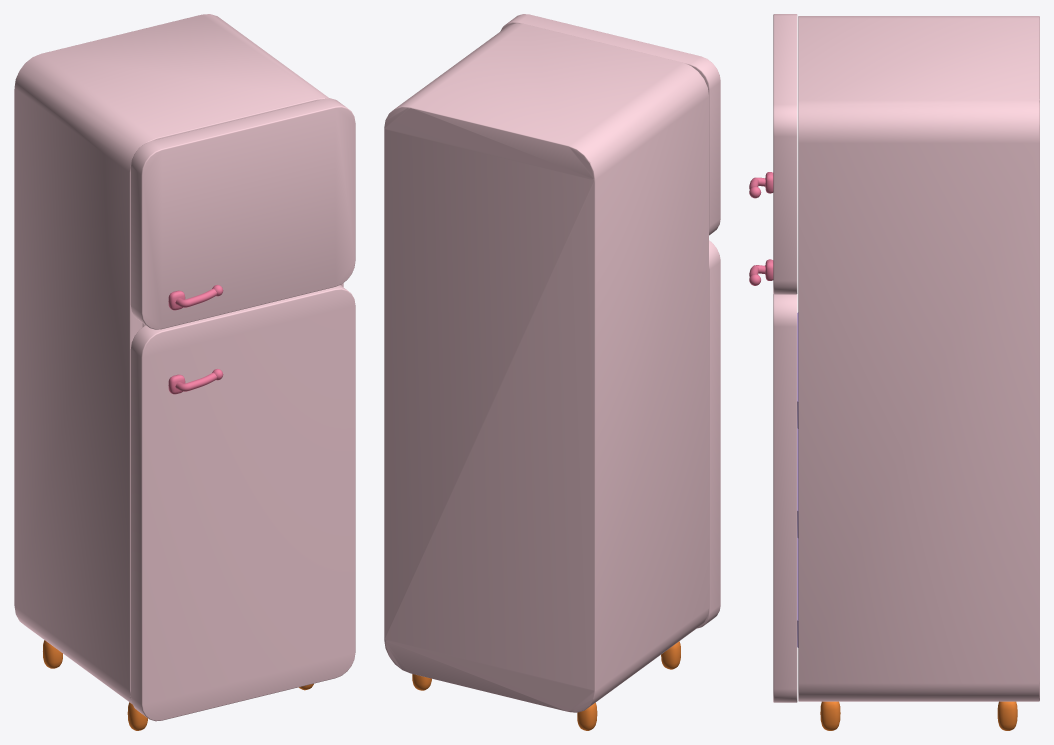
Rendered from geladeira_retro_pes_rosa.glb.
The picture shows the model from 3 angles, left to right: view 1: azimuth 30°, elevation 25°; view 2: azimuth 150°, elevation 25°; view 3: azimuth 270°, elevation 25°; orthographic projection. The views are drawn at different scales.
Parts seen in each view (by area): view 1: geladeira_retro_pes_rosa, porta_geladeira, porta_congelador; view 2: geladeira_retro_pes_rosa, porta_geladeira, porta_congelador; view 3: geladeira_retro_pes_rosa, porta_geladeira, porta_congelador.
Boxes of the visible parts, left/top/right/bottom form: geladeira_retro_pes_rosa: left=14, top=14, right=343, bottom=730; porta_geladeira: left=130, top=285, right=355, bottom=721; porta_congelador: left=130, top=98, right=355, bottom=329; geladeira_retro_pes_rosa: left=384, top=23, right=708, bottom=730; porta_geladeira: left=697, top=240, right=720, bottom=628; porta_congelador: left=500, top=14, right=720, bottom=235; geladeira_retro_pes_rosa: left=798, top=16, right=1039, bottom=730; porta_geladeira: left=749, top=259, right=798, bottom=702; porta_congelador: left=749, top=14, right=797, bottom=294.
Size of the model in its own units: 0.64 by 1.72 by 0.722.
Materials: 2 (1 with a texture image).
